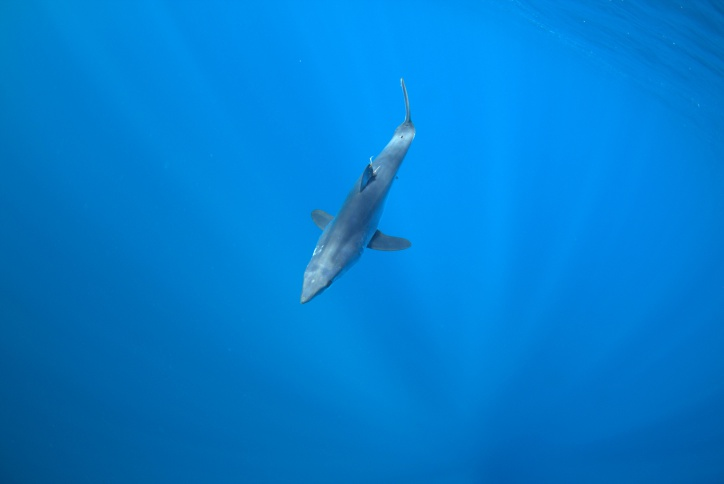Mako: (298, 68, 437, 307)
